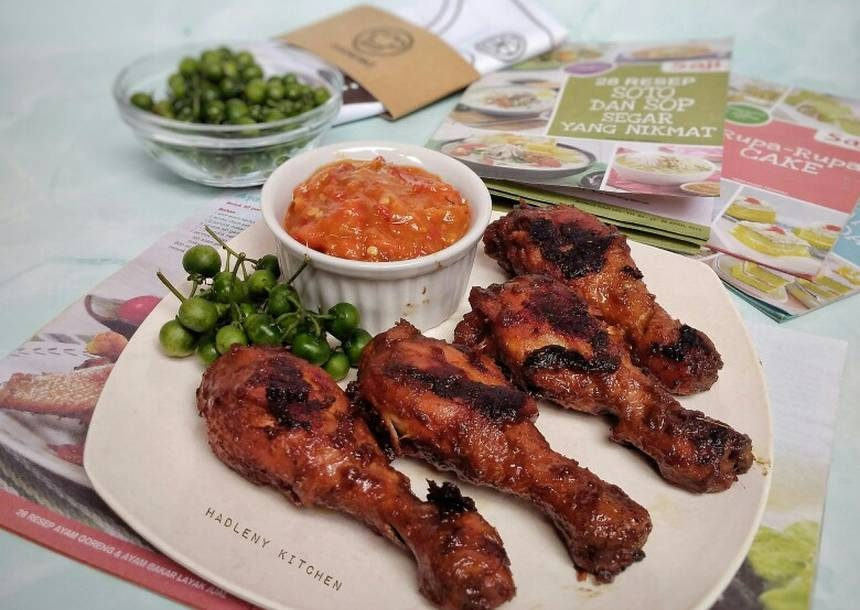ayam_goreng: (175, 346, 516, 610), (358, 317, 657, 579), (455, 262, 756, 498)
